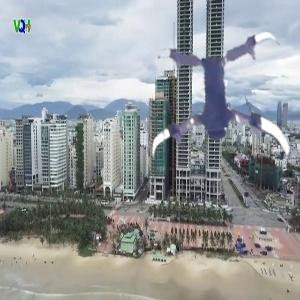drone: (139, 33, 299, 193)
